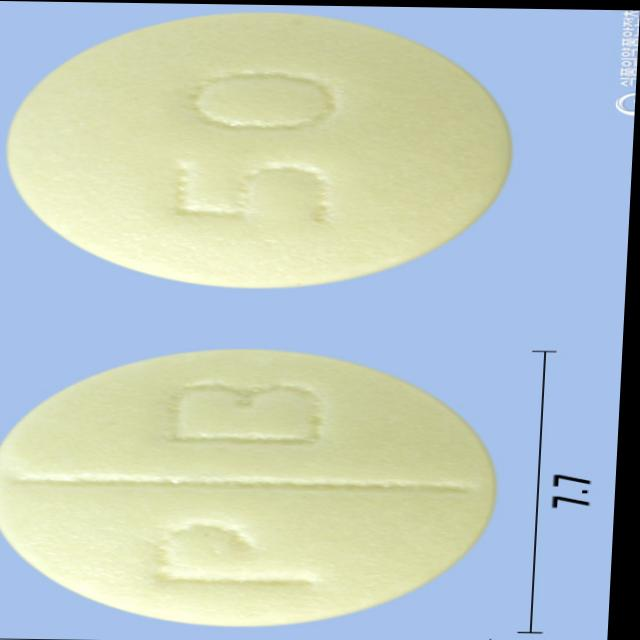Amocla 625mg: (3, 7, 518, 290), (0, 343, 509, 627)
